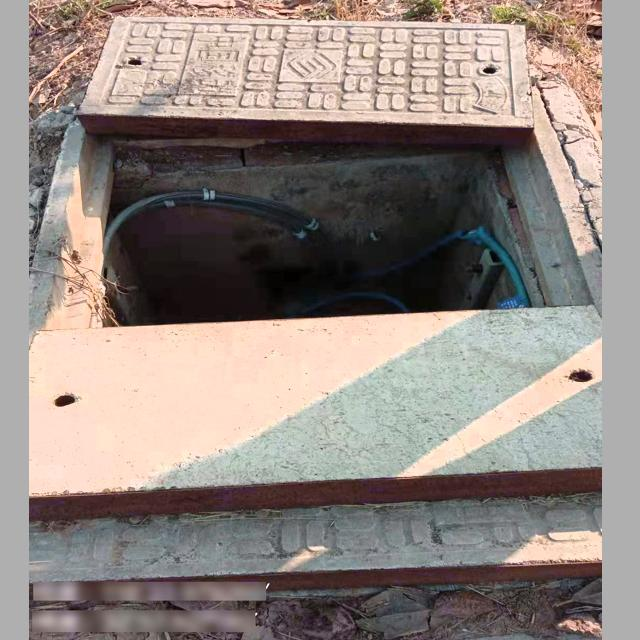uncovered: (31, 10, 602, 589)
